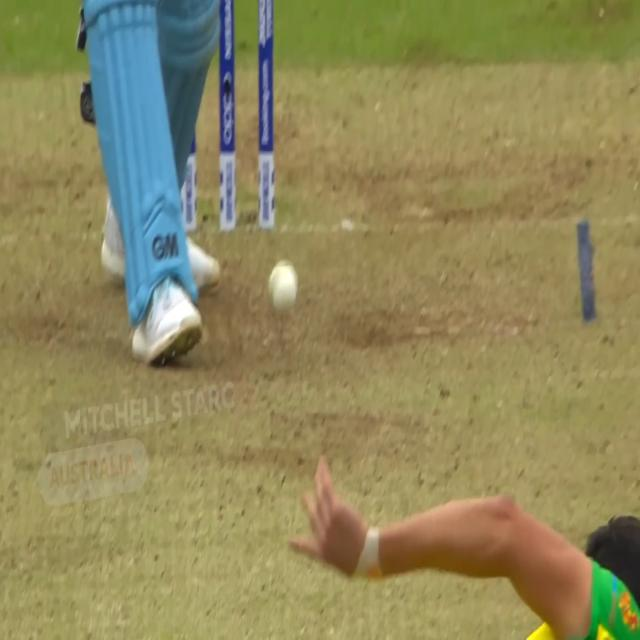ball: (265, 253, 305, 321)
